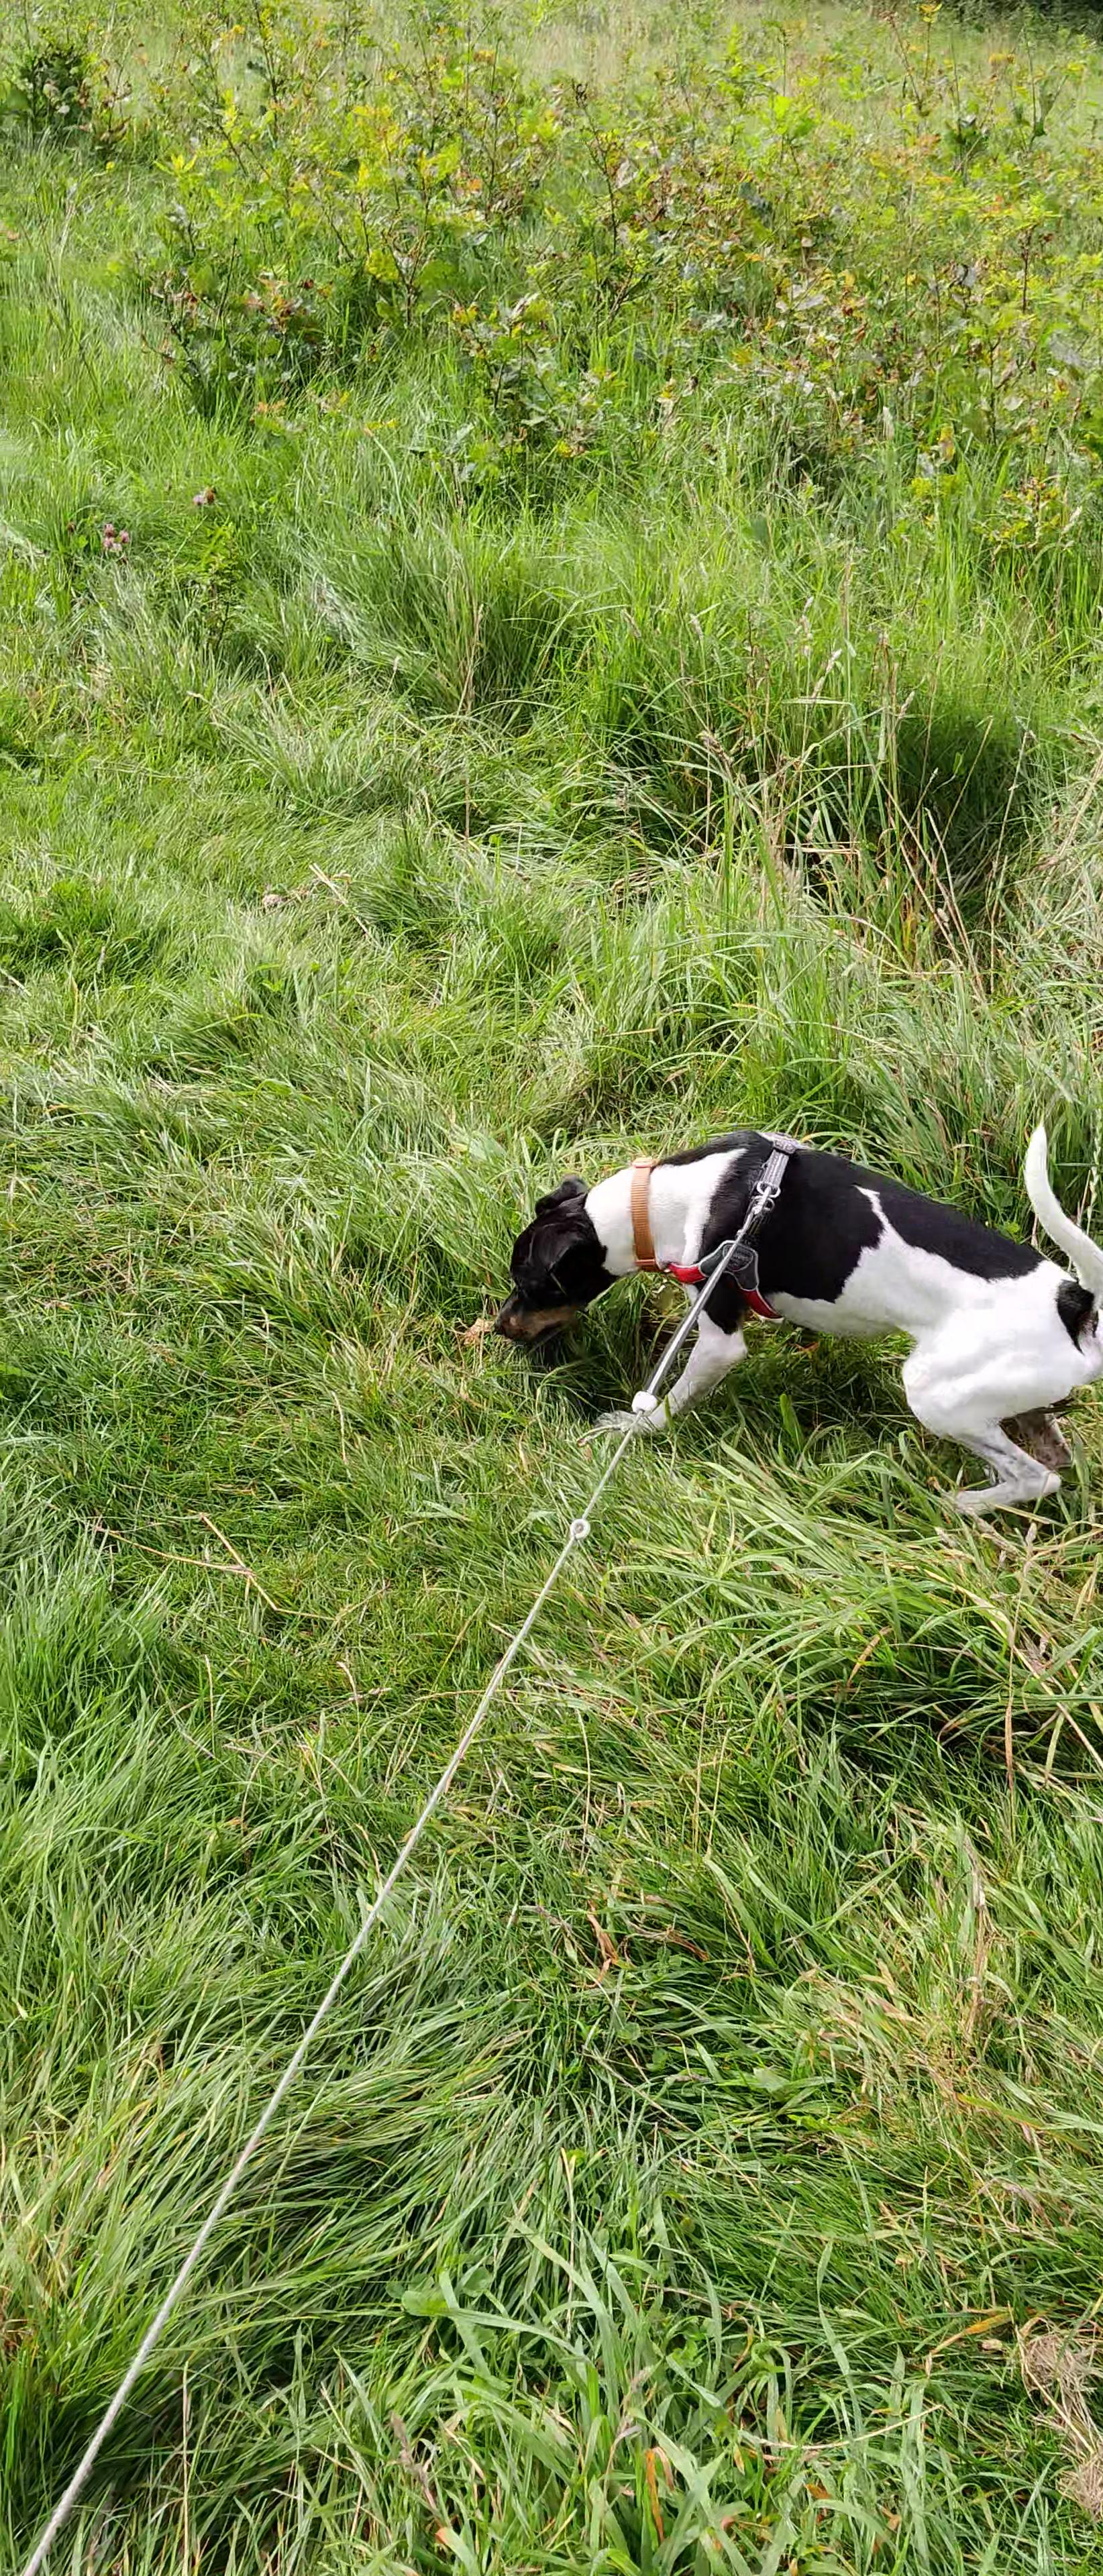Dog: (468, 1083, 1103, 1557)
